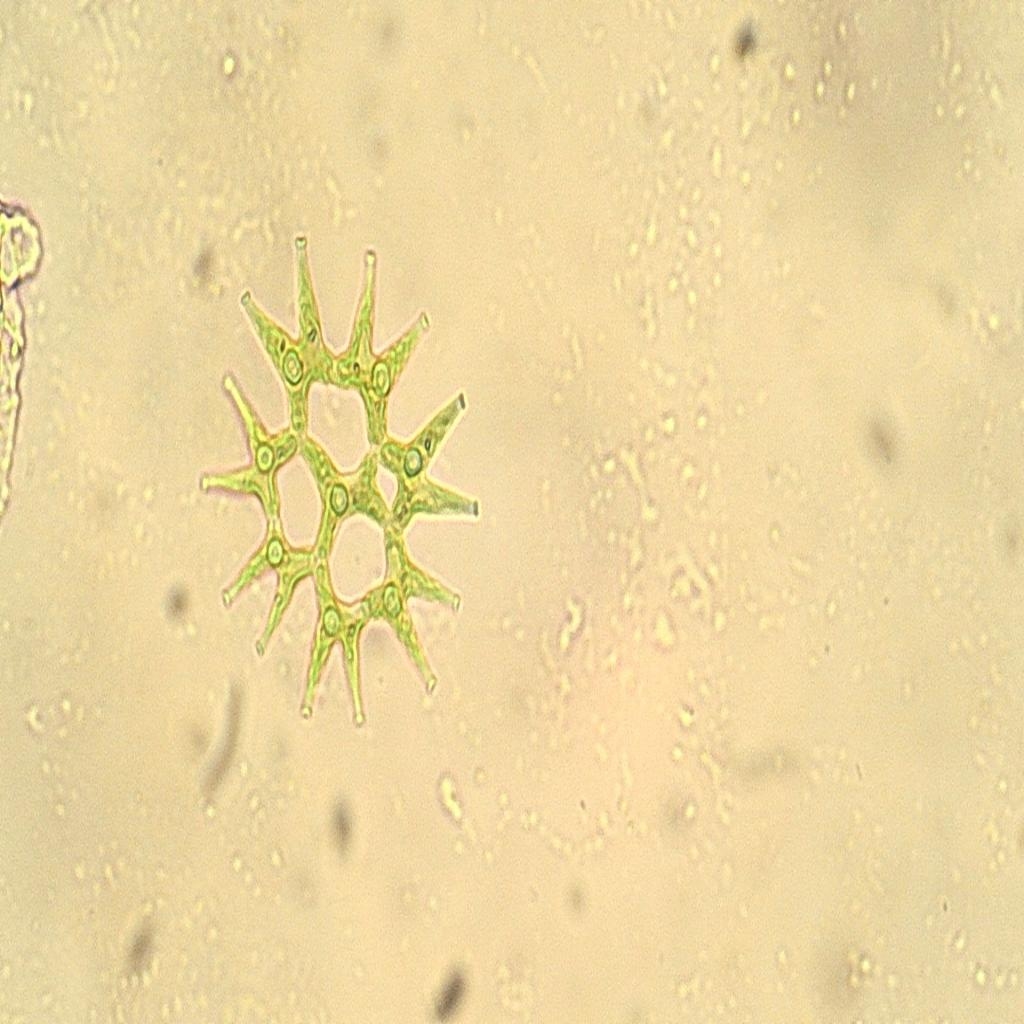Pediastrum_CTH: (192, 208, 494, 750)
